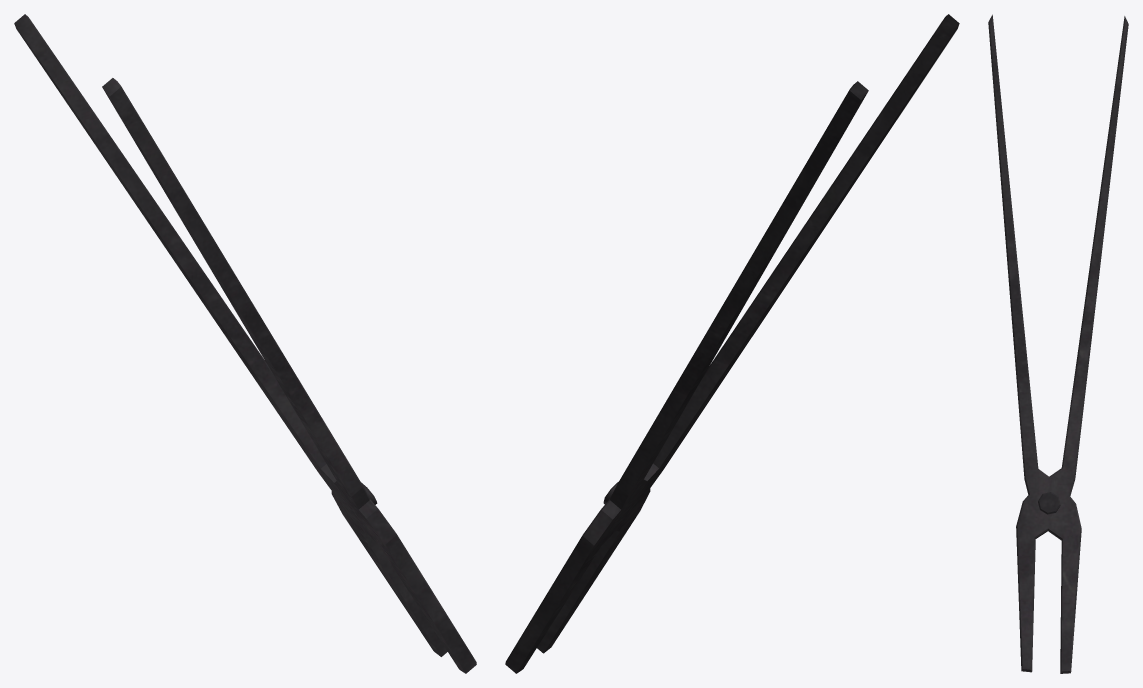
Rendered from HuoQian0812.FBX.
The picture shows the model from 3 angles, left to right: view 1: azimuth 30°, elevation 25°; view 2: azimuth 150°, elevation 25°; view 3: azimuth 270°, elevation 25°; orthographic projection. The views are drawn at different scales.
Visible parts, largest first — view 1: HuoQian02, HuoQian01; view 2: HuoQian01, HuoQian02; view 3: HuoQian02, HuoQian01, HuoQian03.
Part boxes in pixels (box(x1,y1,x2,y2)): HuoQian02: box(14, 14, 476, 673); HuoQian01: box(102, 78, 447, 656); HuoQian01: box(505, 14, 959, 673); HuoQian02: box(537, 81, 868, 653); HuoQian02: box(1016, 16, 1128, 672); HuoQian01: box(988, 14, 1081, 673); HuoQian03: box(1038, 492, 1060, 514).
Size of the model in its own units: 250 by 425 by 103.
Materials: 1 (1 with a texture image).
